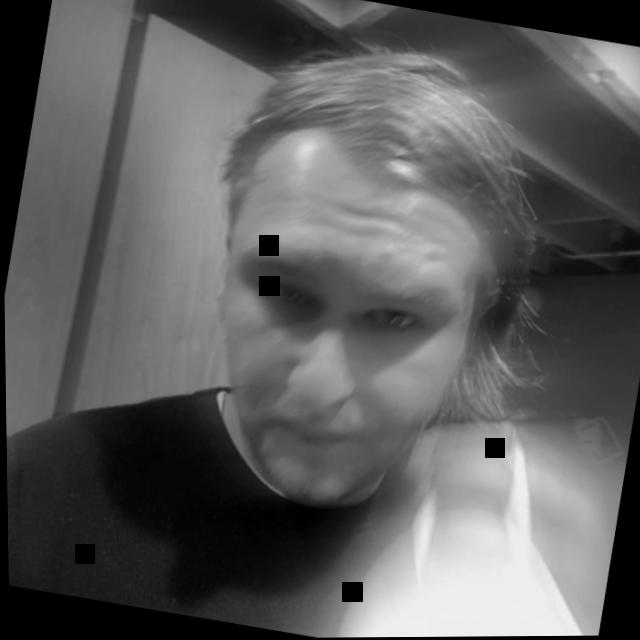NO-Mask: (171, 19, 553, 507)
